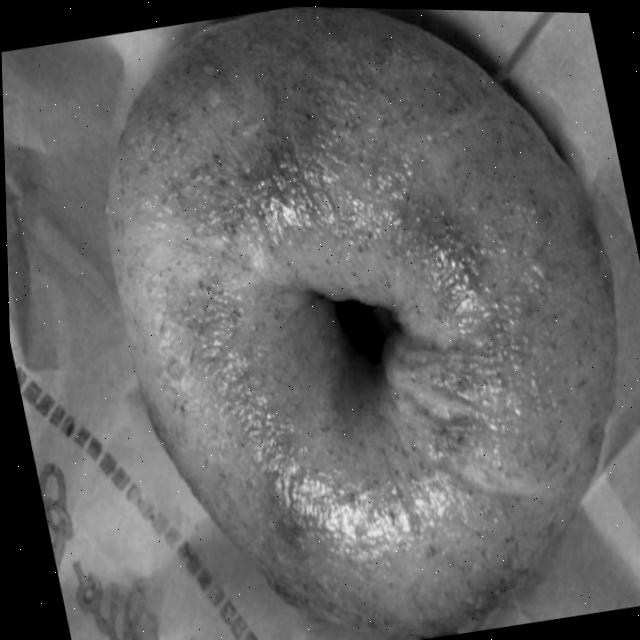面包点心: (43, 1, 640, 640)
